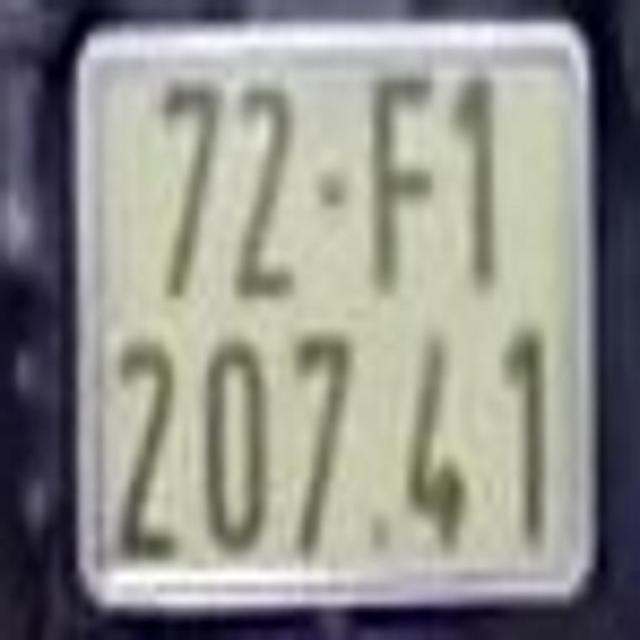0: (208, 340, 269, 556)
1: (498, 326, 553, 550), (450, 81, 502, 288)
2: (115, 336, 180, 557), (236, 90, 296, 296)
4: (408, 336, 462, 543)
7: (284, 330, 351, 552), (155, 88, 217, 301)
F: (362, 70, 437, 294)
